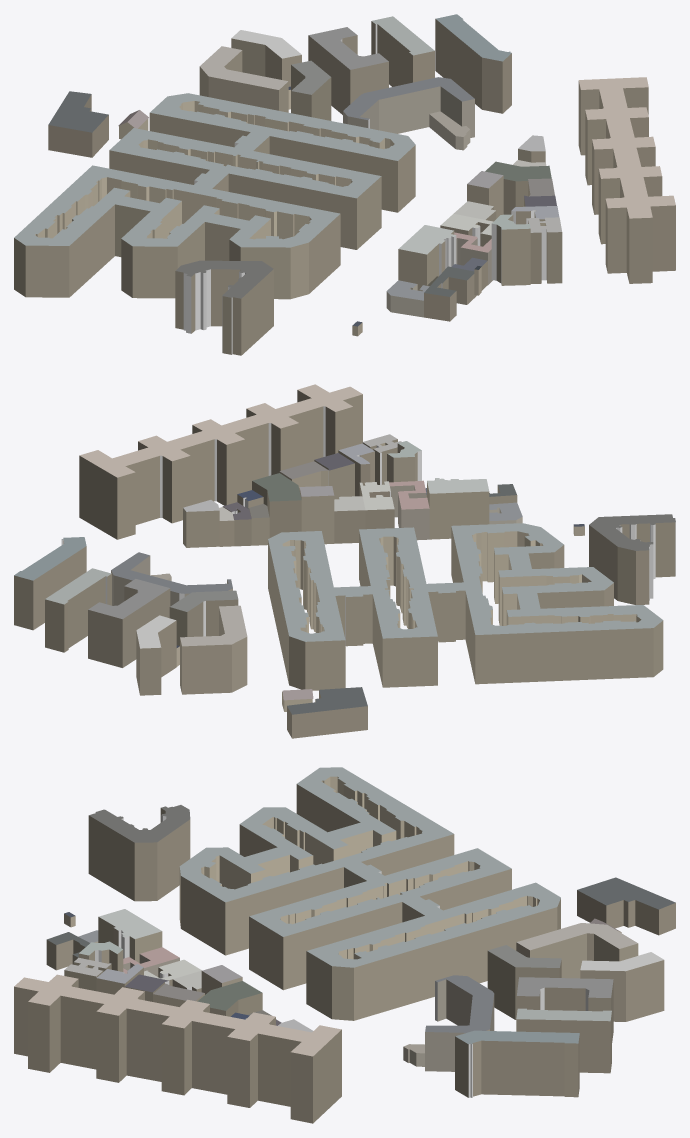
3 renders of one model, top to bottom at view 1: azimuth 30°, elevation 25°; view 2: azimuth 150°, elevation 25°; view 3: azimuth 270°, elevation 25°, orthographic. The views are drawn at different scales.
Parts seen in each view (by area): view 1: tuile; view 2: tuile; view 3: tuile.
Boxes of the visible parts, bbox=[...] form: tuile: bbox=[14, 14, 675, 355]; tuile: bbox=[14, 384, 675, 738]; tuile: bbox=[14, 767, 675, 1123].
Size of the model in its own units: 326 by 36.87 by 294.
